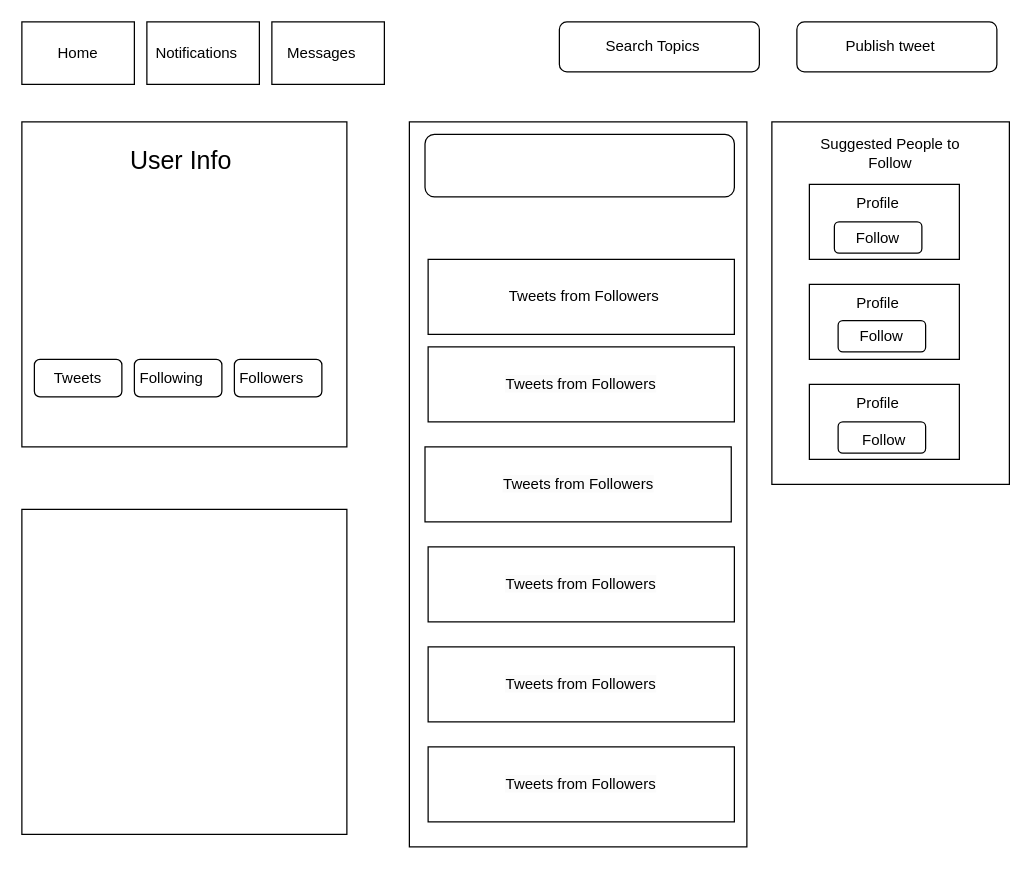
Image size: 1031x869. Some labels were removed from this diagram. The centre of each missing label's shape, as x and y in pixels:
"User Bio" belongs at (184,671).
"User Input Field" belongs at (579,165).
